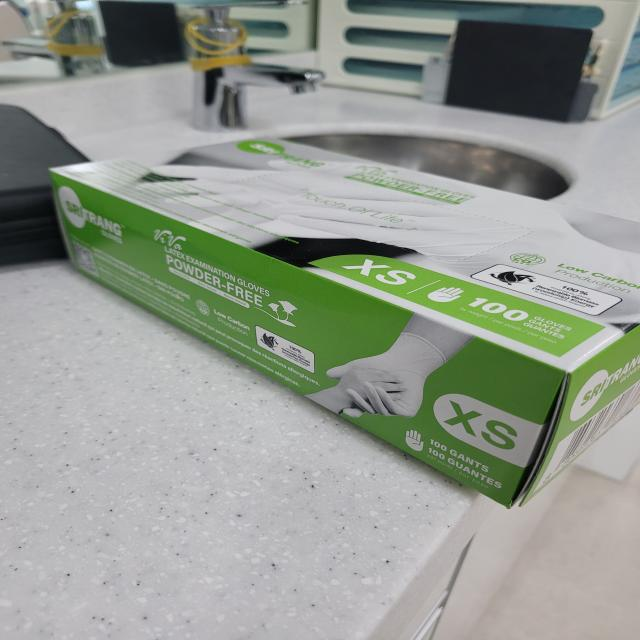glove: (30, 118, 640, 518)
